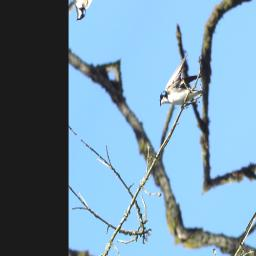Swallow: (155, 49, 214, 132)
